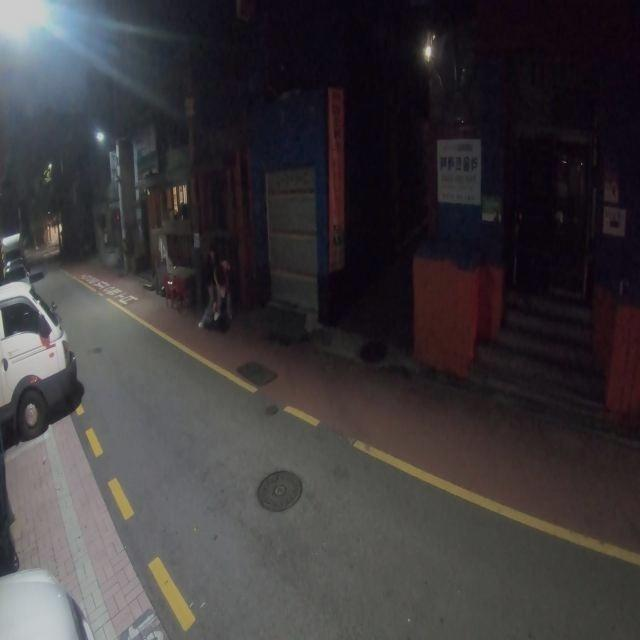fight: (193, 243, 237, 331)
